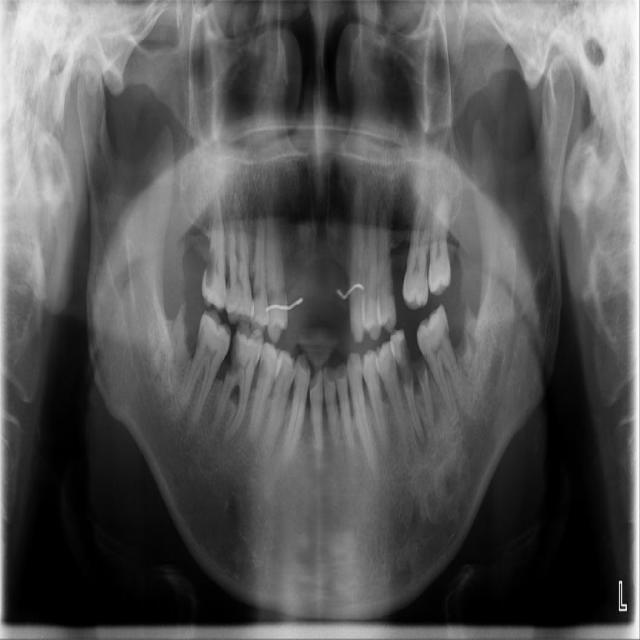52: (399, 343, 427, 386), (227, 332, 244, 377), (204, 250, 216, 286), (257, 360, 269, 383), (385, 268, 393, 295), (372, 367, 382, 387), (388, 355, 397, 373), (280, 289, 288, 302), (268, 291, 275, 304), (254, 284, 260, 299), (442, 327, 450, 338), (226, 276, 231, 292)
73: (620, 620, 626, 624)
BioHorizons Implant: (401, 172, 436, 310)
BioLife Implant: (428, 188, 454, 297)
Caries: (203, 192, 230, 310)
Implant: (175, 308, 237, 427)
